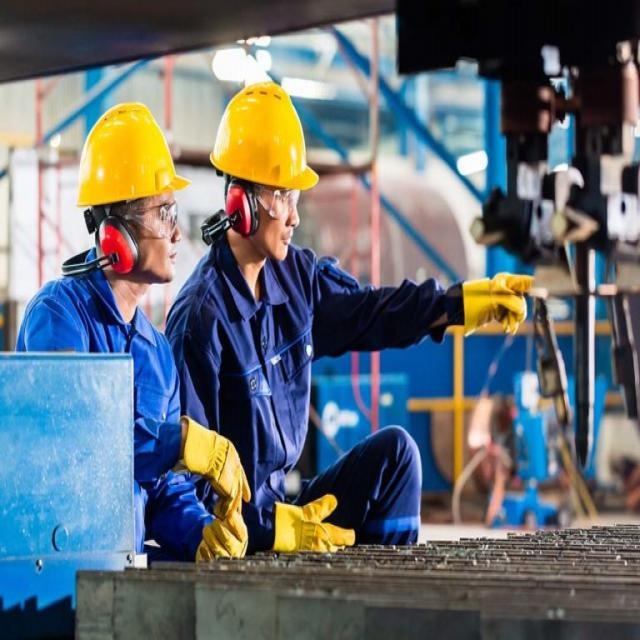Safety-Helmet: (71, 96, 192, 212), (207, 76, 321, 195)
